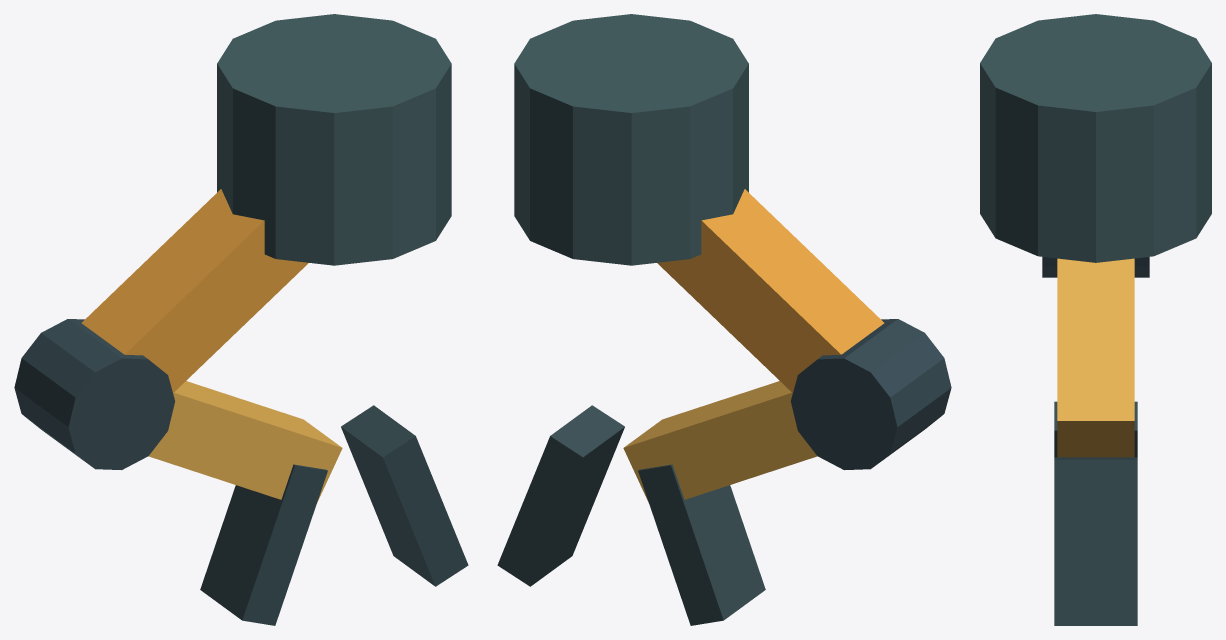
Rendered from FactoryRecoveryGrabber.glb.
The picture shows the model from 3 angles, left to right: view 1: azimuth 30°, elevation 25°; view 2: azimuth 150°, elevation 25°; view 3: azimuth 270°, elevation 25°; orthographic projection.
Visible parts, largest first — view 1: Robotic grabber · Cylinder 001.001, Robotic grabber · Box 003.001, Robotic grabber · Cylinder 002.001, Robotic grabber · Box 004.001, Robotic grabber · Box 005.001, Robotic grabber · Box 006.001; view 2: Robotic grabber · Cylinder 001.001, Robotic grabber · Box 003.001, Robotic grabber · Cylinder 002.001, Robotic grabber · Box 004.001, Robotic grabber · Box 005.001, Robotic grabber · Box 006.001; view 3: Robotic grabber · Cylinder 001.001, Robotic grabber · Box 004.001, Robotic grabber · Box 006.001, Robotic grabber · Cylinder 002.001, Robotic grabber · Box 005.001.
Boxes of the visible parts, x1,y1,x2,y2 form: Robotic grabber · Cylinder 001.001: (217,14,451,265); Robotic grabber · Box 003.001: (81,189,308,392); Robotic grabber · Cylinder 002.001: (14,319,175,470); Robotic grabber · Box 004.001: (148,381,342,502); Robotic grabber · Box 005.001: (200,464,327,625); Robotic grabber · Box 006.001: (341,405,468,586); Robotic grabber · Cylinder 001.001: (514,14,748,265); Robotic grabber · Box 003.001: (657,189,884,392); Robotic grabber · Cylinder 002.001: (790,319,951,470); Robotic grabber · Box 004.001: (623,381,817,502); Robotic grabber · Box 005.001: (638,464,765,625); Robotic grabber · Box 006.001: (497,405,624,586); Robotic grabber · Cylinder 001.001: (980,14,1211,262); Robotic grabber · Box 004.001: (1057,258,1134,457); Robotic grabber · Box 006.001: (1054,457,1137,625); Robotic grabber · Cylinder 002.001: (1042,257,1149,277); Robotic grabber · Box 005.001: (1054,401,1137,457).
Bounding box in the file's own units: 0.7798 × 0.9678 × 0.39.
